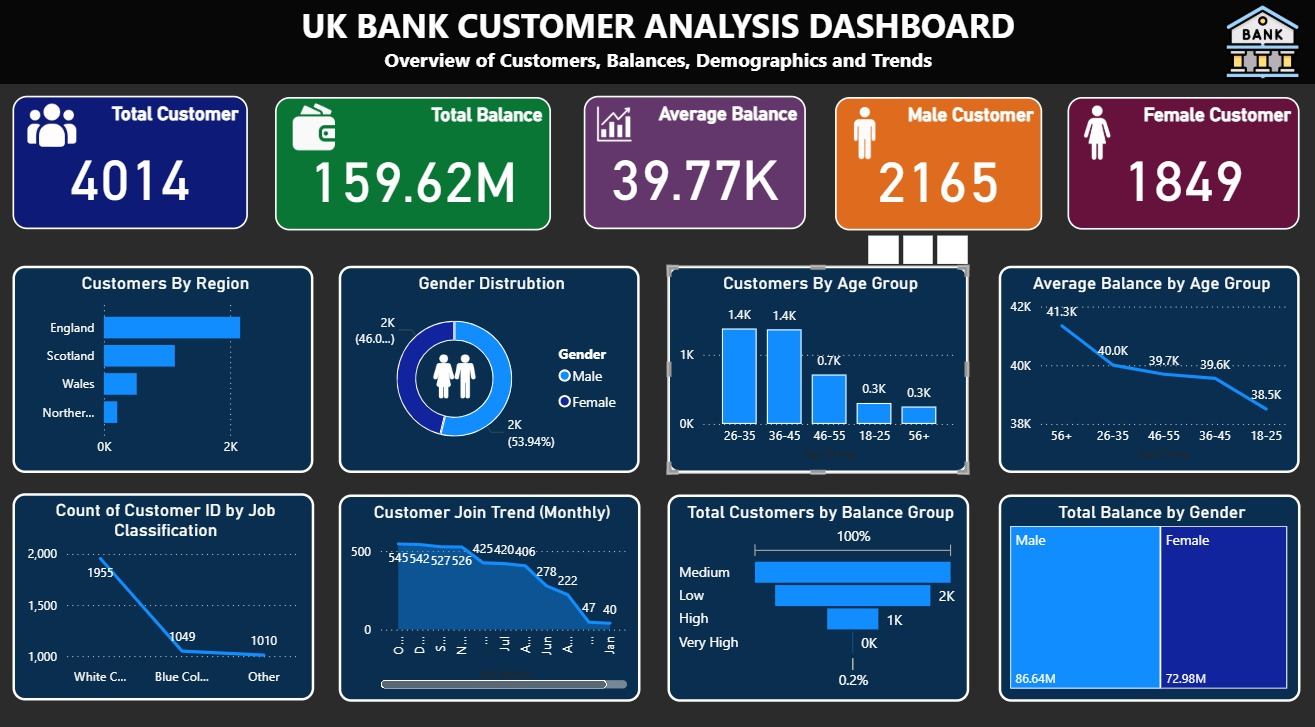

This screenshot's page, from the dashboard's own definition file:
{"tool":"powerbi","page":{"name":"Page 1","canvas":[1920,1080],"ordinal":0},"visuals":[{"type":"cardVisual","fields":{"Data":["P6-UK-Bank-Customers.Total Customer"]},"box":[10,121,237.4,110],"z":0},{"type":"clusteredBarChart","fields":{"Category":["P6-UK-Bank-Customers.Region"],"Y":["P6-UK-Bank-Customers.Total Customer"]},"box":[10,249,288.9,225.8],"z":1000},{"type":"cardVisual","fields":{"Data":["P6-UK-Bank-Customers.Total Balance"]},"box":[258.2,121,237.4,110],"z":2000},{"type":"donutChart","fields":{"Category":["P6-UK-Bank-Customers.Gender"],"Y":["P6-UK-Bank-Customers.Total Customer"]},"box":[323.8,248.8,288.9,225.8],"z":3000},{"type":"cardVisual","fields":{"Data":["P6-UK-Bank-Customers.Average Balance"]},"box":[506.3,121,237.4,110],"z":4000},{"type":"clusteredColumnChart","fields":{"Series":["P6-UK-Bank-Customers.Age Group"],"Y":["P6-UK-Bank-Customers.Total Customer"]},"box":[637.5,248.8,288.9,225.8],"z":5000},{"type":"cardVisual","fields":{"Data":["P6-UK-Bank-Customers.Male Customer"]},"box":[754.5,121,237.4,110],"z":6000},{"type":"lineChart","fields":{"Category":["P6-UK-Bank-Customers.Age Group"],"Y":["P6-UK-Bank-Customers.Average Balance"]},"box":[951.2,248.8,288.9,225.8],"z":7000},{"type":"cardVisual","fields":{"Data":["P6-UK-Bank-Customers.Female Customers"]},"box":[1002.6,121,237.4,110],"z":8000},{"type":"textbox","box":[54,38,1080,92],"z":9000},{"type":"lineChart","fields":{"Category":["P6-UK-Bank-Customers.Job Classification"],"Y":["P6-UK-Bank-Customers.Total Customer"]},"box":[9,499,288.9,225.8],"z":10000},{"type":"areaChart","fields":{"Category":["P6-UK-Bank-Customers.Date Joined.Variation.Date Hierarchy.Month"],"Y":["P6-UK-Bank-Customers.Total Customer"]},"box":[323,499,288.9,225.8],"z":11000},{"type":"funnel","fields":{"Y":["P6-UK-Bank-Customers.Total Customer","Sum(P6-UK-Bank-Customers.Balance)"]},"box":[637,499,288.9,225.8],"z":12000},{"type":"treemap","fields":{"Details":["P6-UK-Bank-Customers.Gender"],"Values":["P6-UK-Bank-Customers.Total Balance"]},"box":[951,499,288.9,225.8],"z":13000},{"type":"image","box":[10,121,101.8,99],"z":13001},{"type":"image","box":[266.4,126,101.8,99],"z":13002},{"type":"image","box":[506.8,126,101.8,99],"z":13003},{"type":"image","box":[763.2,128,88.8,95],"z":13004},{"type":"image","box":[1006.6,125,88.8,95],"z":13005}]}

Visuals, with their boxes in screenshot pixels (x1, y1, x2, y2), scaled from the page's 1920x1080 canvas onto the 1315x727 screenshot:
cardVisual - P6-UK-Bank-Customers.Total Customer: x1=7 y1=81 x2=169 y2=155
clusteredBarChart - P6-UK-Bank-Customers.Region x P6-UK-Bank-Customers.Total Customer: x1=7 y1=168 x2=205 y2=320
cardVisual - P6-UK-Bank-Customers.Total Balance: x1=177 y1=81 x2=339 y2=155
donutChart - P6-UK-Bank-Customers.Gender x P6-UK-Bank-Customers.Total Customer: x1=222 y1=167 x2=420 y2=319
cardVisual - P6-UK-Bank-Customers.Average Balance: x1=347 y1=81 x2=509 y2=155
clusteredColumnChart - P6-UK-Bank-Customers.Age Group x P6-UK-Bank-Customers.Total Customer: x1=437 y1=167 x2=634 y2=319
cardVisual - P6-UK-Bank-Customers.Male Customer: x1=517 y1=81 x2=679 y2=155
lineChart - P6-UK-Bank-Customers.Age Group x P6-UK-Bank-Customers.Average Balance: x1=651 y1=167 x2=849 y2=319
cardVisual - P6-UK-Bank-Customers.Female Customers: x1=687 y1=81 x2=849 y2=155
textbox: x1=37 y1=26 x2=777 y2=88
lineChart - P6-UK-Bank-Customers.Job Classification x P6-UK-Bank-Customers.Total Customer: x1=6 y1=336 x2=204 y2=488
areaChart - P6-UK-Bank-Customers.Date Joined.Variation.Date Hierarchy.Month x P6-UK-Bank-Customers.Total Customer: x1=221 y1=336 x2=419 y2=488
funnel - P6-UK-Bank-Customers.Total Customer x Sum(P6-UK-Bank-Customers.Balance): x1=436 y1=336 x2=634 y2=488
treemap - P6-UK-Bank-Customers.Gender x P6-UK-Bank-Customers.Total Balance: x1=651 y1=336 x2=849 y2=488
image: x1=7 y1=81 x2=77 y2=148
image: x1=182 y1=85 x2=252 y2=151
image: x1=347 y1=85 x2=417 y2=151
image: x1=523 y1=86 x2=584 y2=150
image: x1=689 y1=84 x2=750 y2=148
